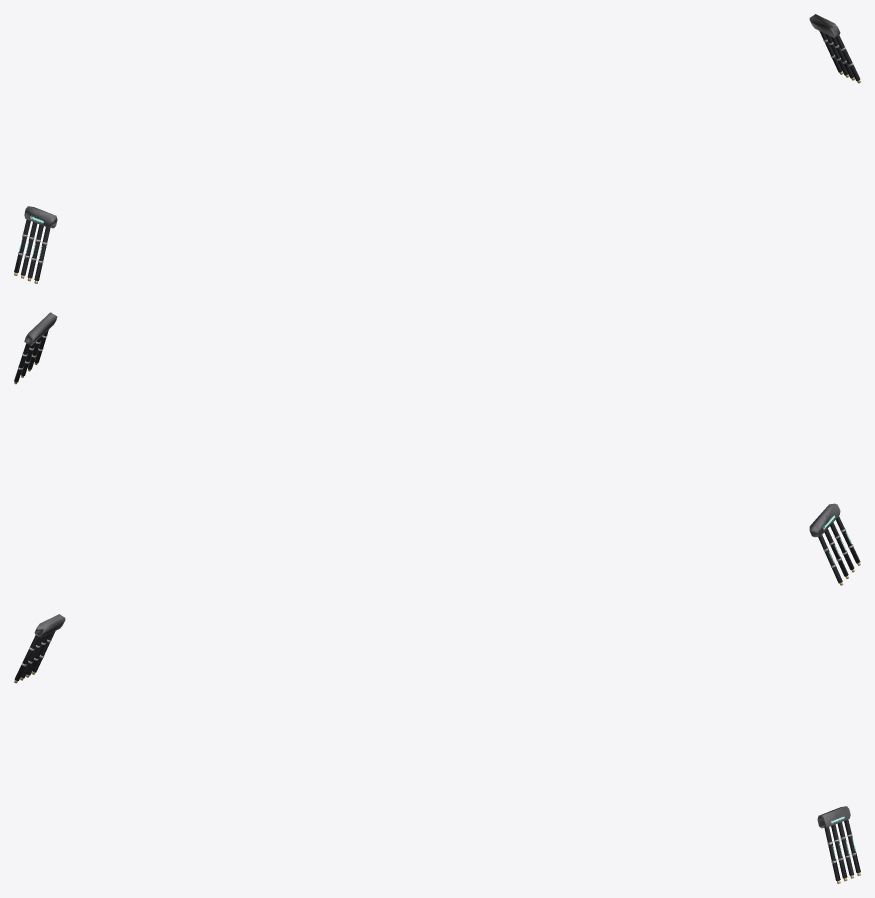
The model's file is dg3_dexterity_grafts.gltf.
The picture shows the model from 3 angles, top to bottom: view 1: azimuth 30°, elevation 25°; view 2: azimuth 150°, elevation 25°; view 3: azimuth 330°, elevation 25°; orthographic projection.
Visible parts, largest first — view 1: B_hand_R__dg3_dexterity_grafts, B_hand_L__dg3_dexterity_grafts; view 2: B_hand_R__dg3_dexterity_grafts, B_hand_L__dg3_dexterity_grafts; view 3: B_hand_L__dg3_dexterity_grafts, B_hand_R__dg3_dexterity_grafts.
Boxes of the visible parts, bbox=[...] form: B_hand_R__dg3_dexterity_grafts: bbox=[14, 206, 57, 283]; B_hand_L__dg3_dexterity_grafts: bbox=[809, 14, 860, 83]; B_hand_R__dg3_dexterity_grafts: bbox=[809, 503, 860, 585]; B_hand_L__dg3_dexterity_grafts: bbox=[14, 312, 57, 384]; B_hand_L__dg3_dexterity_grafts: bbox=[817, 806, 860, 883]; B_hand_R__dg3_dexterity_grafts: bbox=[14, 614, 65, 683].
Bounding box in the file's own units: 1.17 × 0.0901 × 0.0688.
Materials: 1 (1 with a texture image).
